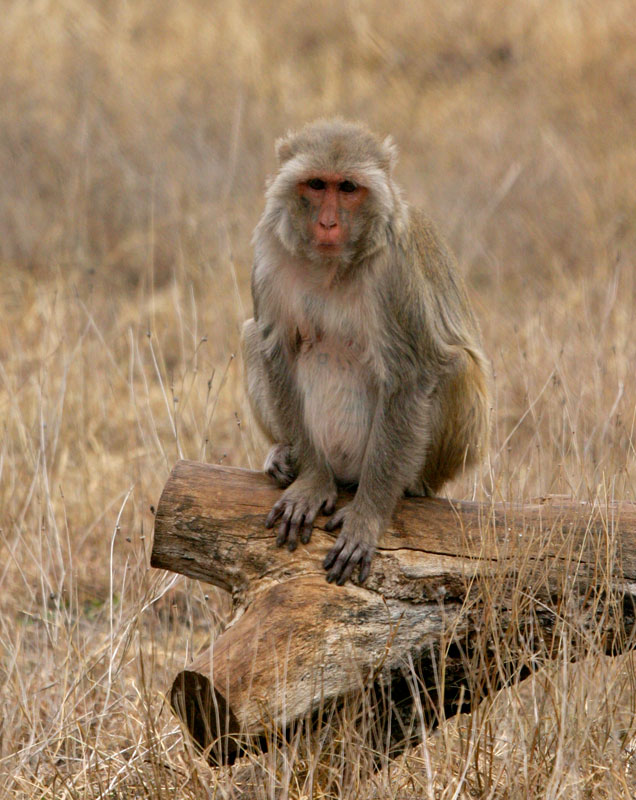monkey: (227, 111, 504, 596)
